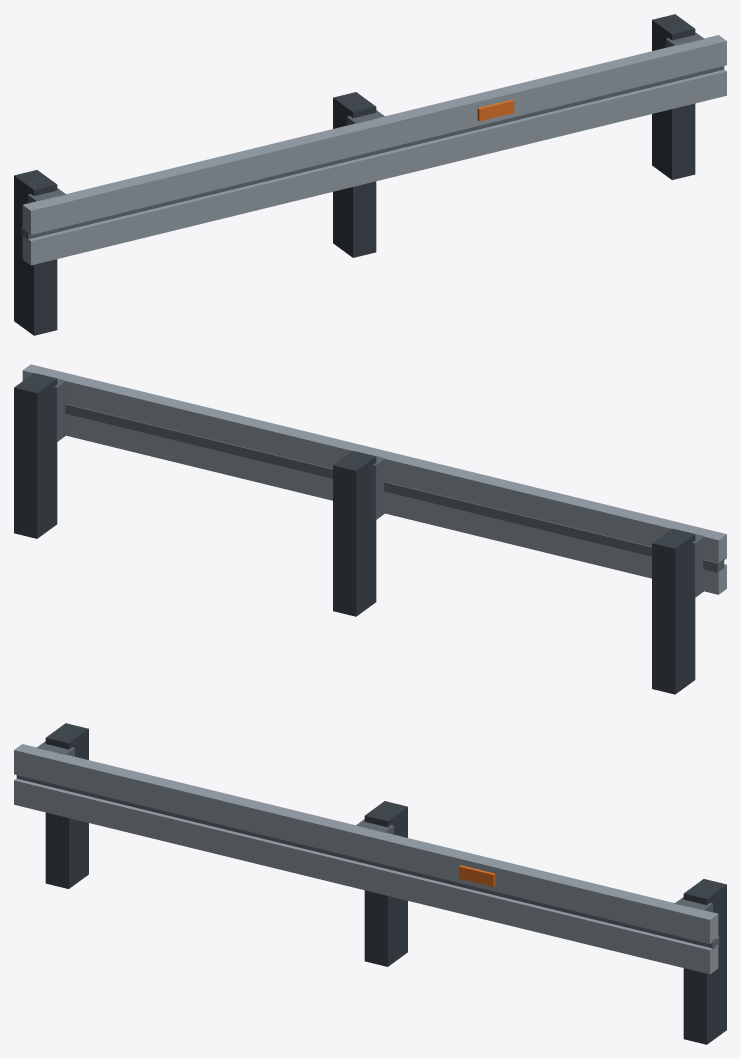
The model's file is env_guardrail_12.fbx.
3 renders of one model, top to bottom at view 1: azimuth 30°, elevation 25°; view 2: azimuth 150°, elevation 25°; view 3: azimuth 330°, elevation 25°, orthographic.
Parts seen in each view (by area): view 1: env_guardrail_12; view 2: env_guardrail_12; view 3: env_guardrail_12.
Part boxes in pixels (left/top/right/bottom): env_guardrail_12: left=14, top=14, right=726, bottom=335; env_guardrail_12: left=14, top=364, right=726, bottom=694; env_guardrail_12: left=14, top=723, right=726, bottom=1044.
Size of the model in its own units: 1200 by 240 by 108.
